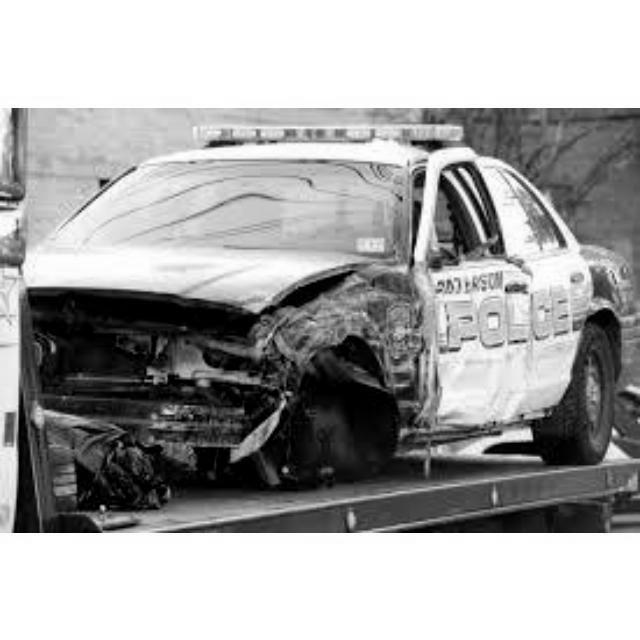Headlight-damage: (203, 318, 311, 368)
doorouter-dent: (431, 275, 507, 426), (506, 270, 573, 418)
fender-dent: (290, 265, 434, 376)
front-bumper-dent: (15, 371, 280, 453)
